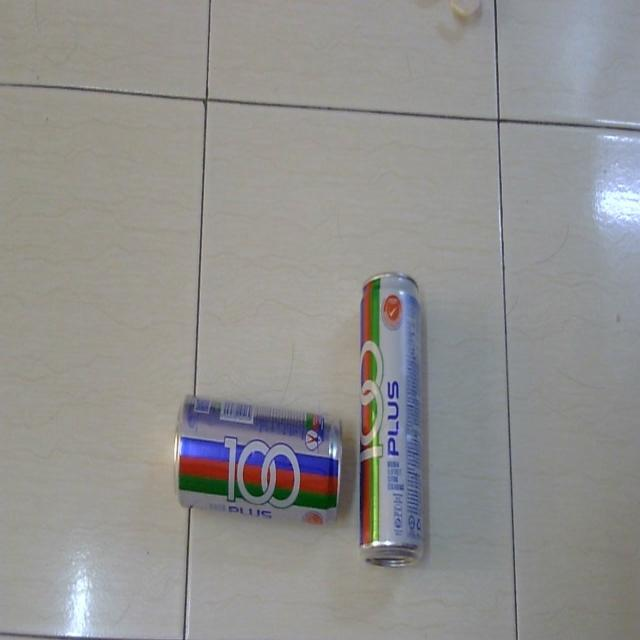metal_laydown_0rotation: (168, 382, 344, 548)
metal_laydown_90rotation: (355, 260, 429, 574)
